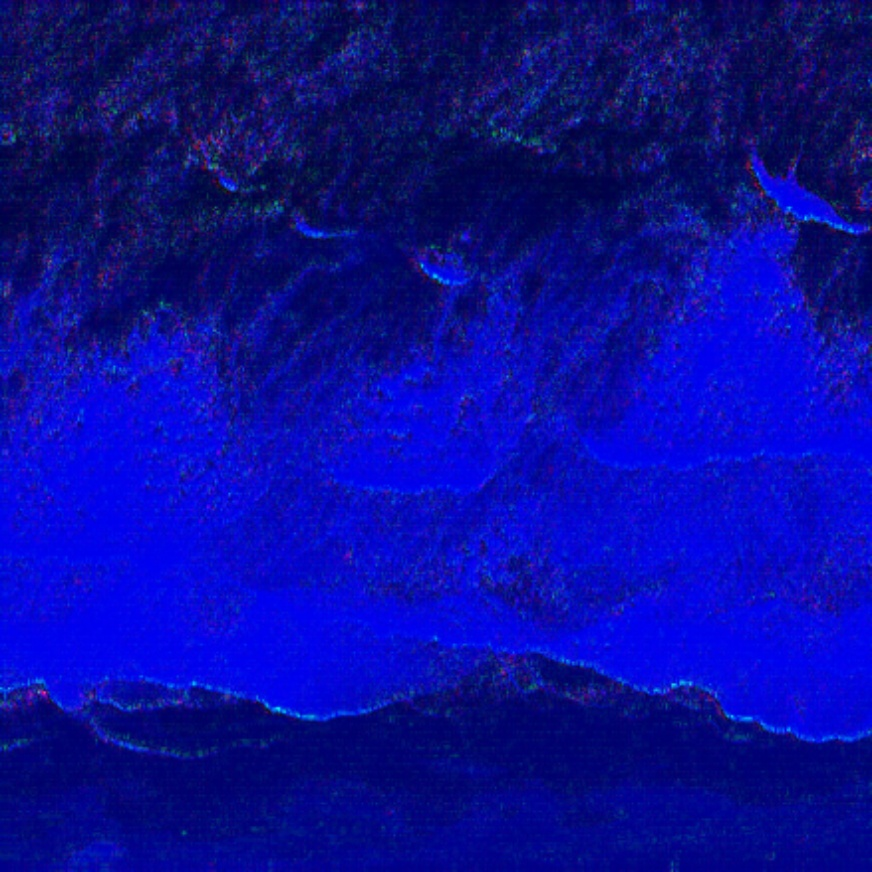rip_current: (172, 164, 435, 644)
